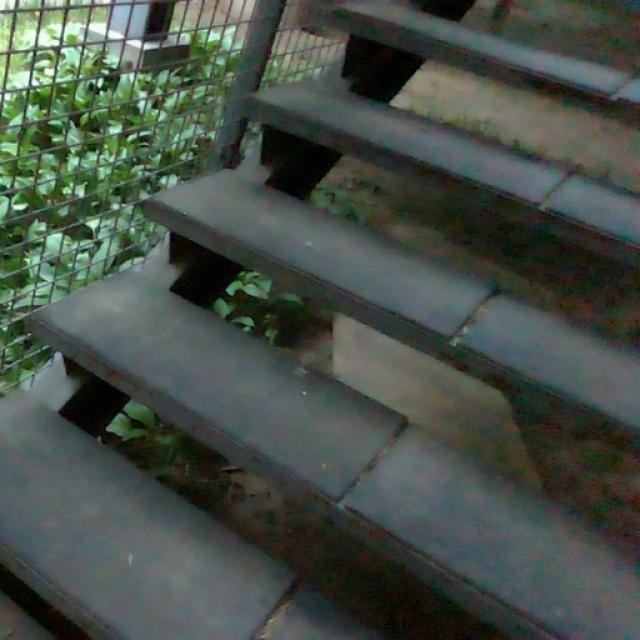stair: (16, 6, 639, 606)
